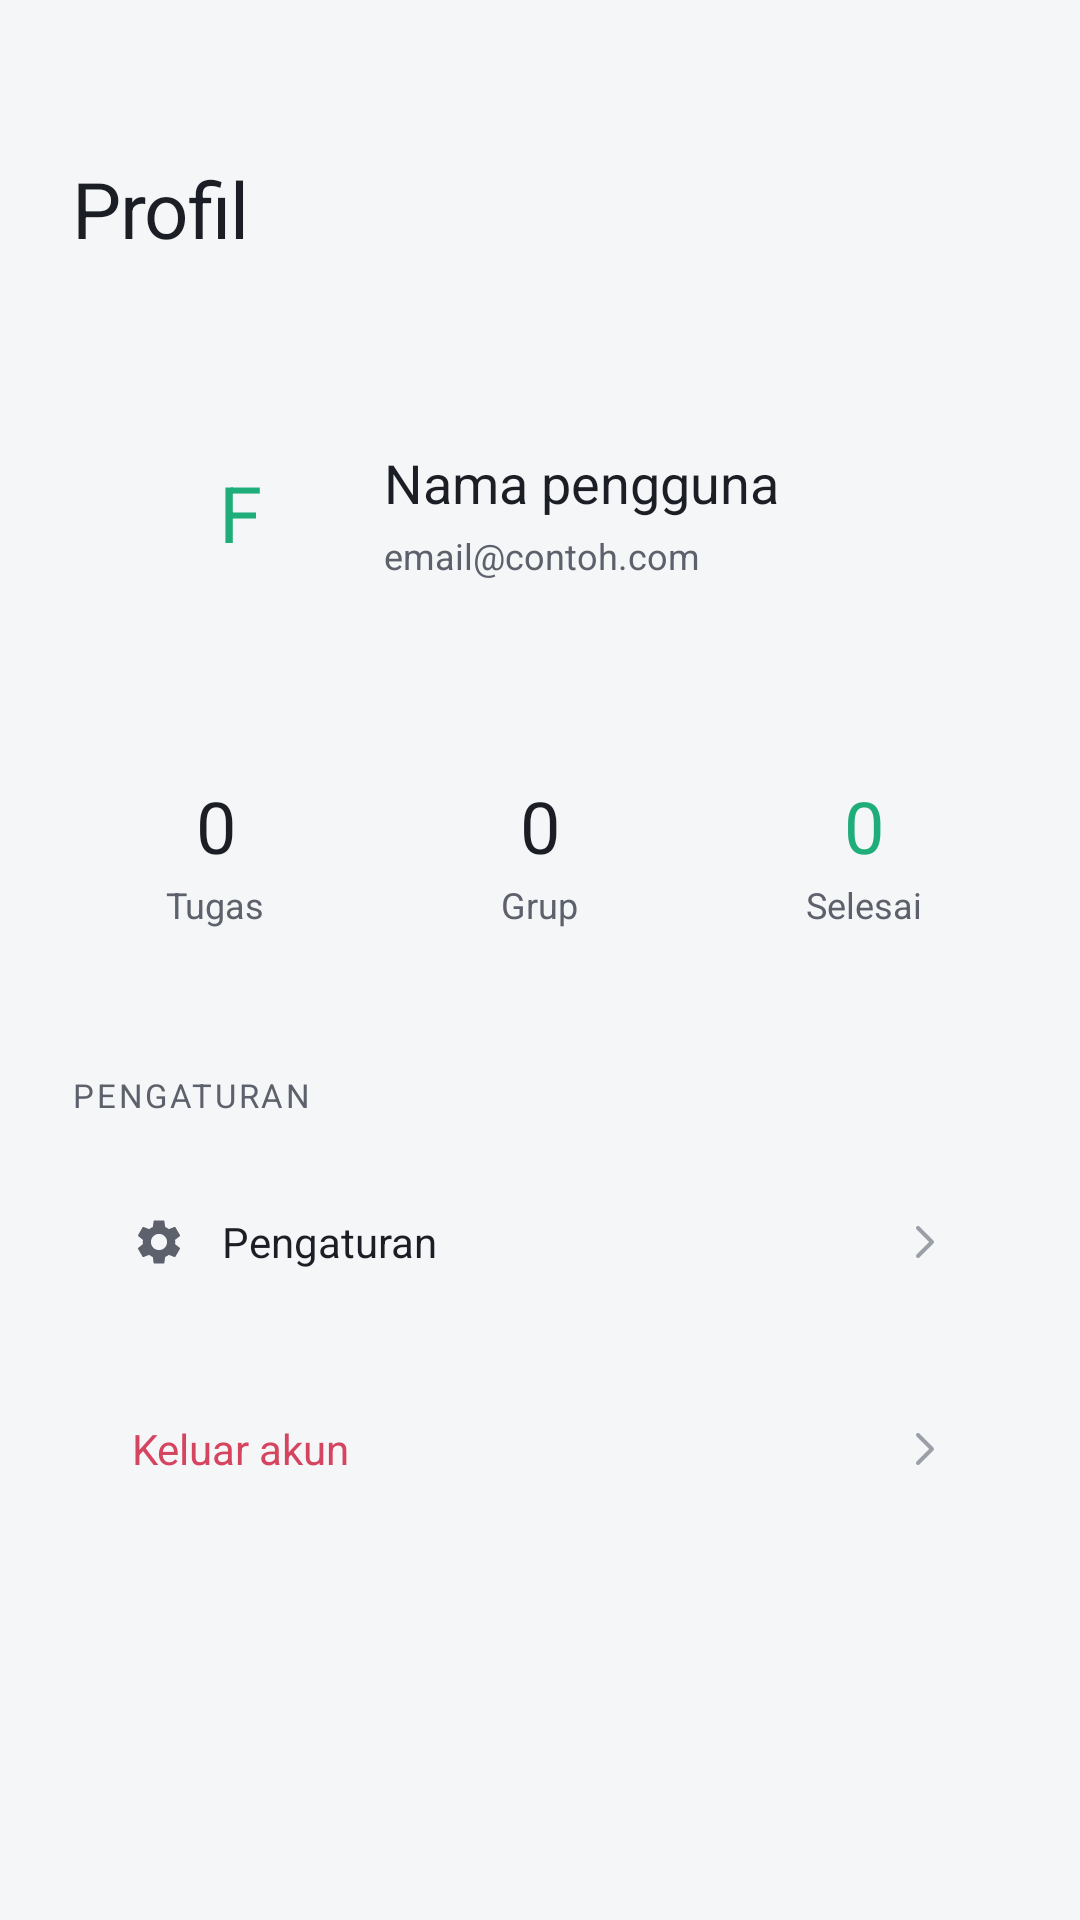

Named icons in this screenshot (1080px x 1920px) and their centers, point (x, y):
chevron right: point (925, 1242), point (925, 1449)
gear: point (159, 1242)
